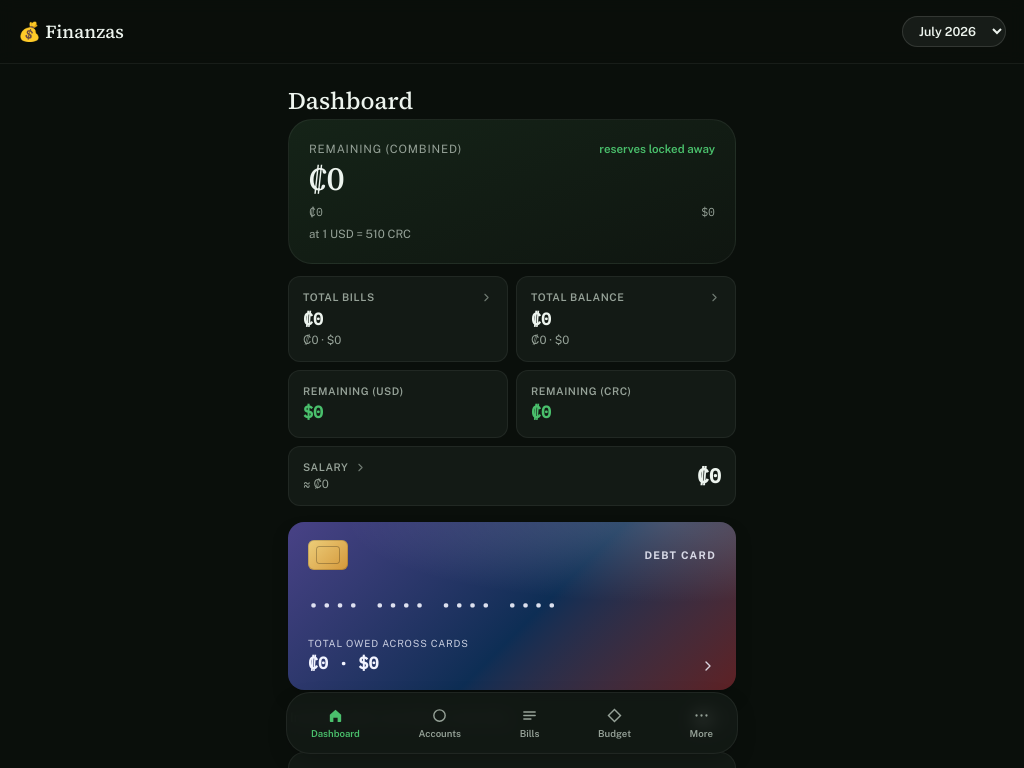
Test case: Budget — empty account › shows zero salary and the empty messages
Click the button "Budget" at (615, 723), box [592,703,637,743]
(page scrolled)
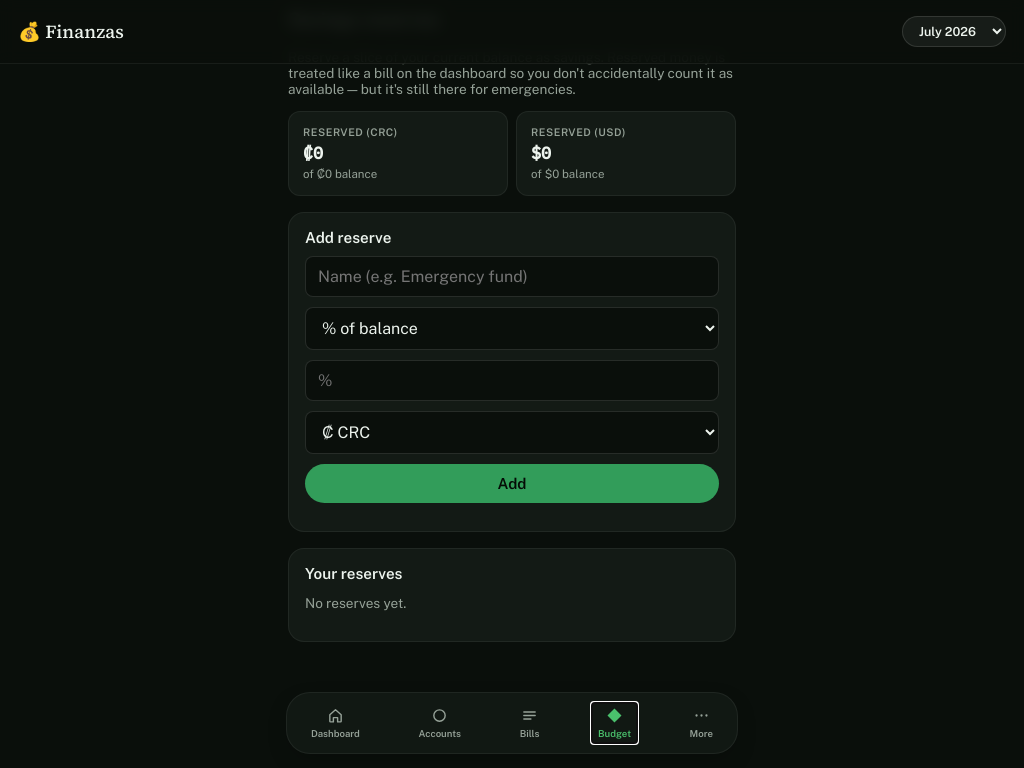
Check: the text "No reserves yet." is shown, box [305,595,406,611]
